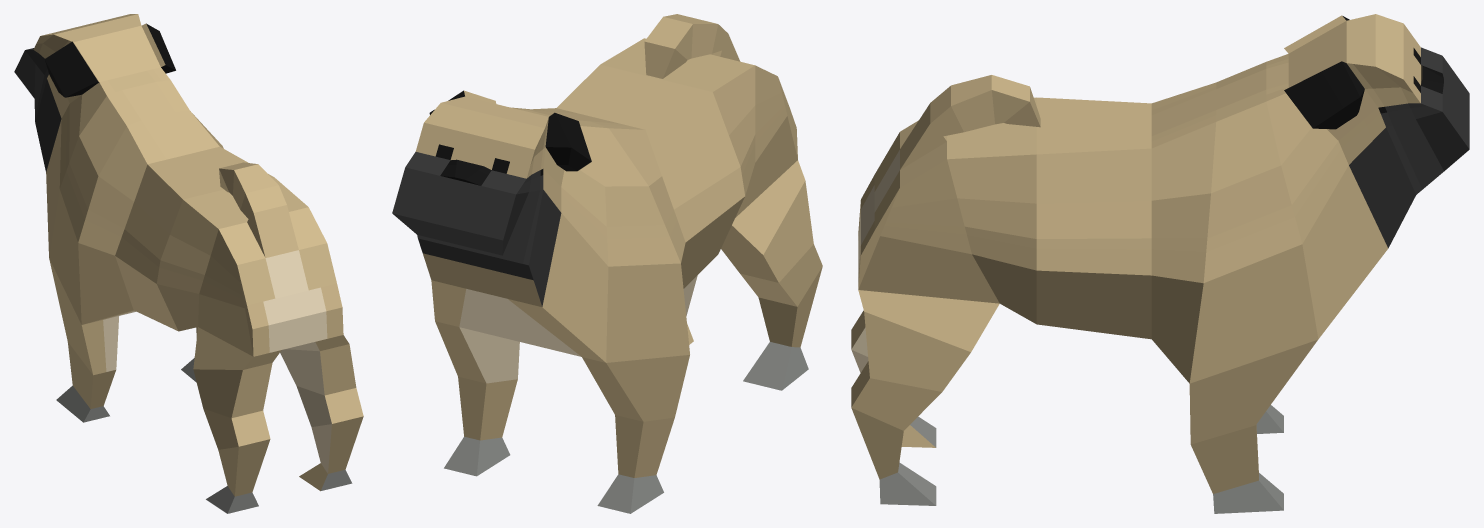
Rendered from pug.glb.
3 renders of one model, left to right at view 1: azimuth 30°, elevation 25°; view 2: azimuth 150°, elevation 25°; view 3: azimuth 270°, elevation 25°, orthographic. The views are drawn at different scales.
Parts seen in each view (by area): view 1: Plane; view 2: Plane; view 3: Plane.
Part boxes in pixels (box(x1,y1,x2,y2)): Plane: box(14, 14, 363, 513); Plane: box(392, 14, 822, 513); Plane: box(851, 14, 1469, 513).
Bounding box in the file's own units: 3.11 × 5.72 × 7.47.
